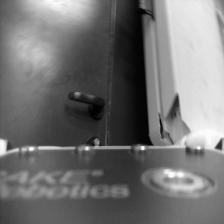Door Handle: (68, 89, 106, 122)
Lock: (86, 135, 103, 145)
